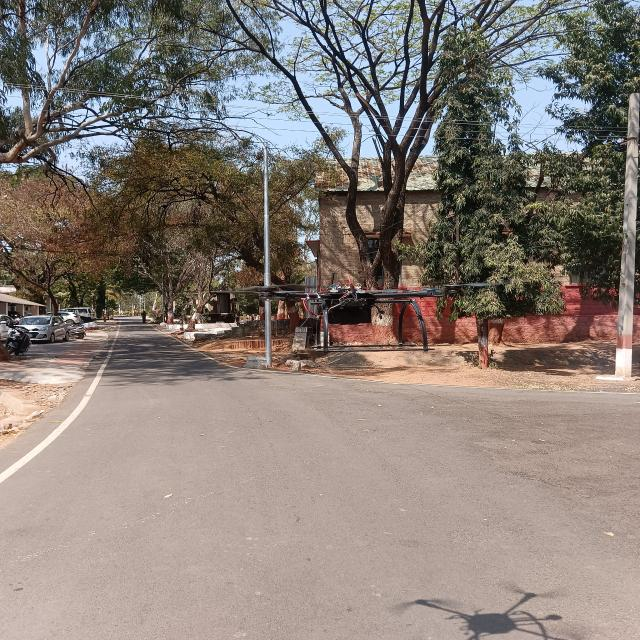drone: (201, 253, 474, 363)
